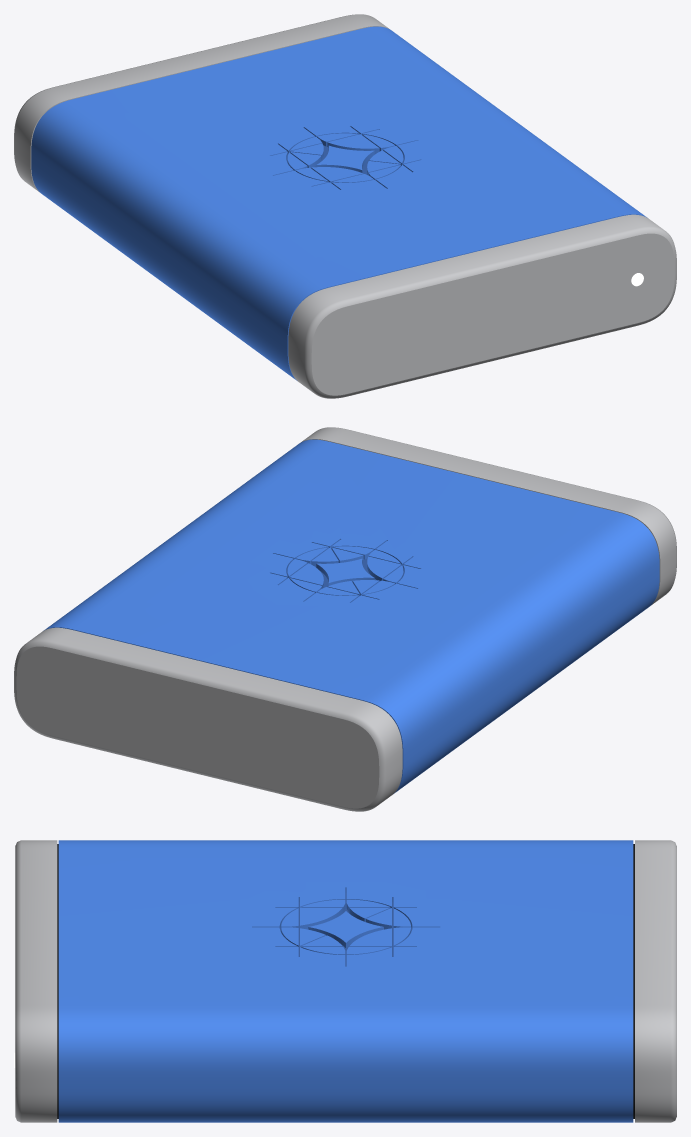
File: drive-gemma.glb
3 views of the same model, one above another, from view 1: azimuth 30°, elevation 25°; view 2: azimuth 150°, elevation 25°; view 3: azimuth 270°, elevation 25° (orthographic). The views are drawn at different scales.
Parts seen in each view (by area): view 1: sleeve, cap_front, cap_back; view 2: sleeve, cap_back, cap_front; view 3: sleeve, cap_front, cap_back, seam_back, seam_front.
Boxes of the visible parts, box(x1,y1,x2,y2) form: sleeve: box(31, 26, 647, 380); cap_front: box(288, 214, 676, 398); cap_back: box(14, 14, 389, 192); sleeve: box(43, 439, 659, 793); cap_back: box(14, 627, 402, 811); cap_front: box(301, 427, 676, 605); sleeve: box(58, 840, 633, 1122); cap_front: box(15, 840, 57, 1122); cap_back: box(635, 840, 676, 1122); seam_back: box(633, 844, 634, 1118); seam_front: box(57, 844, 58, 1118).
Bounding box in the file's own units: 0.08 × 0.02 × 0.1102.
